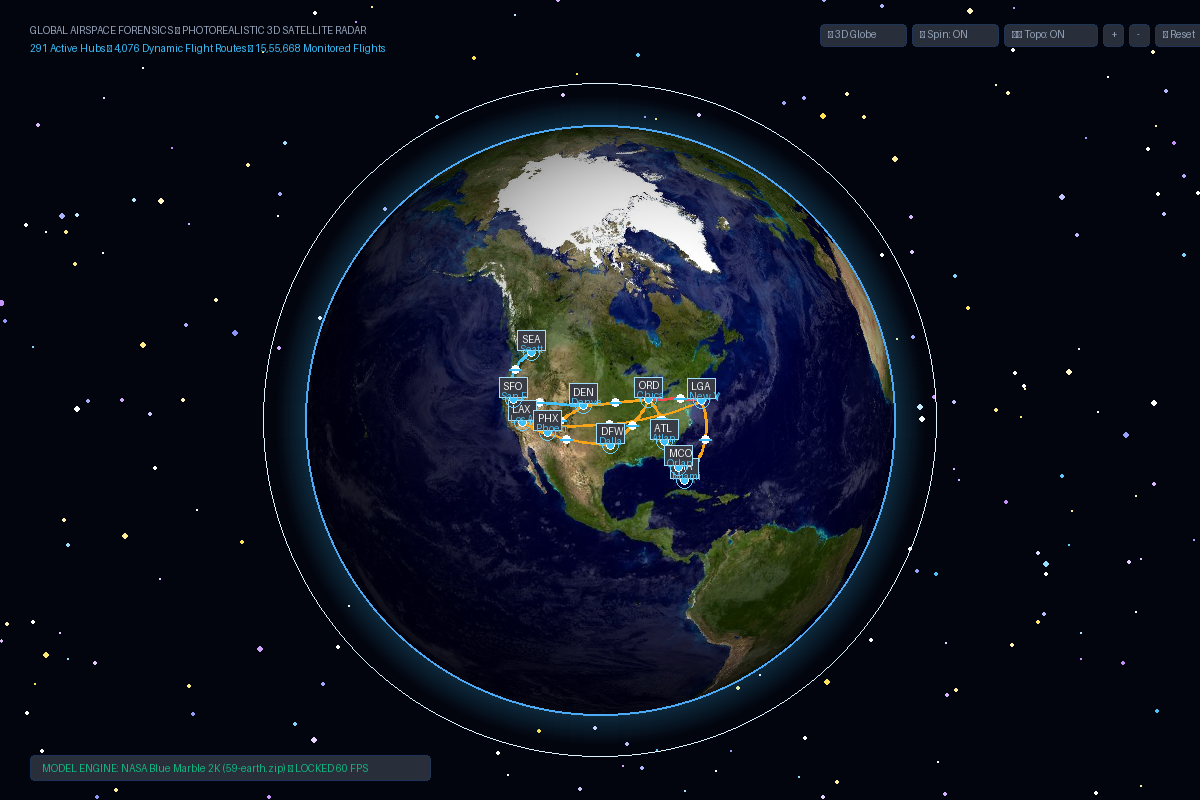

What the dashboard file says about the page in this screenshot:
{"tool":"powerbi","page":{"name":"Page 2","canvas":[1920,1080],"ordinal":1},"visuals":[{"type":"usAviationFlightMapB43F516D783B4A84A0828C961758EE5D","fields":{"origin":["powerbi_route_carrier_matrix.AirportFrom"],"destination":["powerbi_route_carrier_matrix.AirportTo"],"volume":["Sum(powerbi_route_carrier_matrix.flight_volume)"],"delayRate":["powerbi_route_carrier_matrix.Delay Rate %"],"carrier":["powerbi_route_carrier_matrix.carrier_name"],"airport":["powerbi_route_carrier_matrix.AirportFrom"]},"box":[304.8,238.2,1111.1,816.7],"z":0},{"type":"cardVisual","fields":{"Data":["powerbi_route_carrier_matrix.Total Flights"]},"box":[23.1,95.7,358,94],"z":1000},{"type":"cardVisual","fields":{"Data":["powerbi_route_carrier_matrix.Delayed Flights"]},"box":[404.1,95.7,358,94],"z":2000},{"type":"cardVisual","fields":{"Data":["powerbi_route_carrier_matrix.Delay Rate %"]},"box":[780.2,95.7,358,94],"z":3000},{"type":"cardVisual","fields":{"Data":["powerbi_route_carrier_matrix.Loss ($M)"]},"box":[1161.2,95.7,357.9,94],"z":4000},{"type":"cardVisual","fields":{"Data":["powerbi_route_carrier_matrix.Projected Savings ($M)"]},"box":[1539,95.7,358,94],"z":5000},{"type":"slicer","title":"Airline ","fields":{"Values":["powerbi_route_carrier_matrix.carrier_name"]},"box":[26.4,245.8,267.2,262.3],"z":5001},{"type":"slicer","title":"Loss_category","fields":{"Values":["powerbi_route_carrier_matrix.Financial Loss Tier"]},"box":[26.4,517.9,267.2,262.3],"z":5002},{"type":"slicer","title":"Origin Climate Zone","fields":{"Values":["powerbi_route_carrier_matrix.from_climate_tier"]},"box":[26.4,780.2,267.2,262.3],"z":5003},{"type":"tableEx","fields":{"Values":["powerbi_route_carrier_matrix.Route","powerbi_route_carrier_matrix.carrier_name","Sum(powerbi_route_carrier_matrix.flight_volume)","powerbi_route_carrier_matrix.Economic Loss ($)"]},"box":[1438.4,244.1,458.6,809.9],"z":5004}]}

Visuals, with their boxes on the page's 1920x1080 design canvas (x1, y1, x2, y2). These are canvas units, not pixel positions in the 1200x800 screenshot, which may show the page scaled, cropped or inside an application window:
usAviationFlightMapB43F516D783B4A84A0828C961758EE5D - powerbi_route_carrier_matrix.AirportFrom x powerbi_route_carrier_matrix.AirportTo: crop(305, 238, 1416, 1055)
cardVisual - powerbi_route_carrier_matrix.Total Flights: crop(23, 96, 381, 190)
cardVisual - powerbi_route_carrier_matrix.Delayed Flights: crop(404, 96, 762, 190)
cardVisual - powerbi_route_carrier_matrix.Delay Rate %: crop(780, 96, 1138, 190)
cardVisual - powerbi_route_carrier_matrix.Loss ($M): crop(1161, 96, 1519, 190)
cardVisual - powerbi_route_carrier_matrix.Projected Savings ($M): crop(1539, 96, 1897, 190)
"Airline " slicer: crop(26, 246, 294, 508)
"Loss_category" slicer: crop(26, 518, 294, 780)
"Origin Climate Zone" slicer: crop(26, 780, 294, 1042)
tableEx - powerbi_route_carrier_matrix.Route x powerbi_route_carrier_matrix.carrier_name: crop(1438, 244, 1897, 1054)
